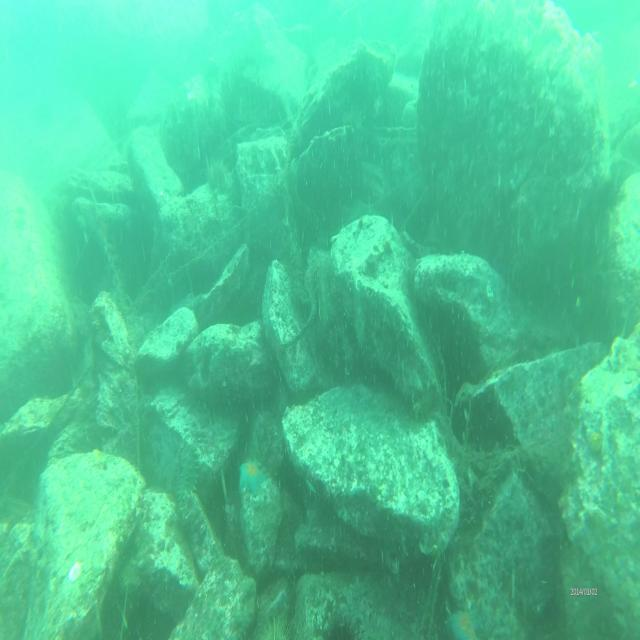echinus: (310, 607, 372, 640), (257, 609, 300, 640)
holothurian: (173, 436, 198, 518)
starfish: (442, 600, 486, 640), (238, 455, 272, 502)
